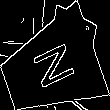N_W: (24, 40, 77, 96)
